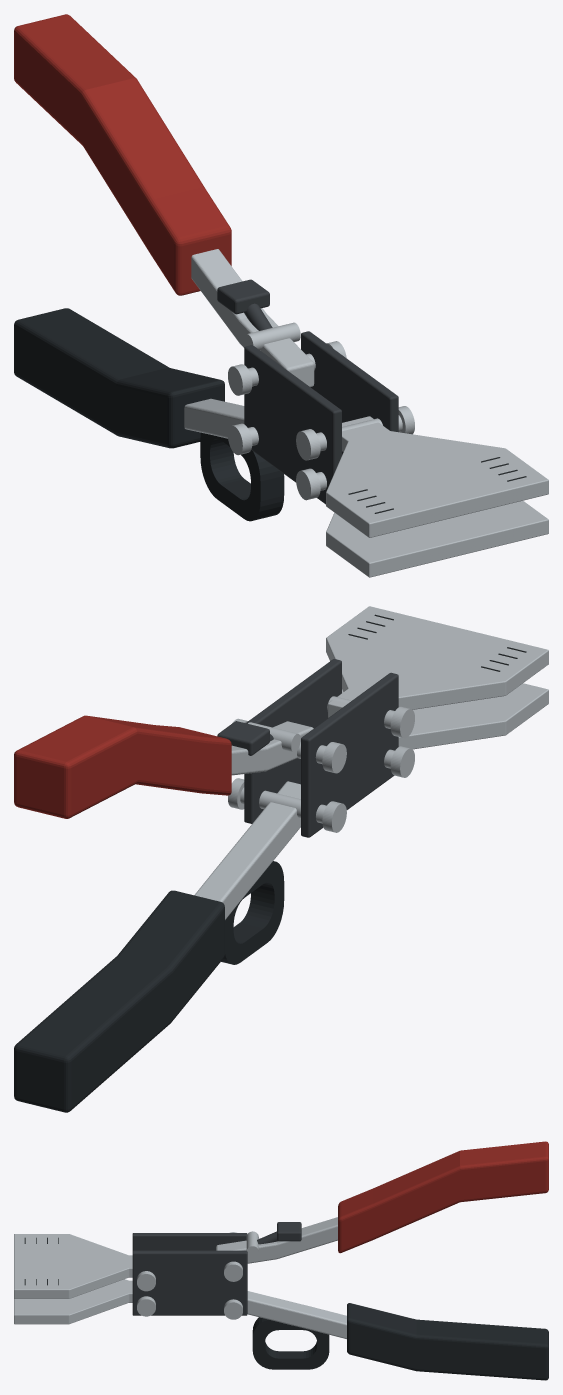
File: full.glb
3 renders of one model, top to bottom at view 1: azimuth 30°, elevation 25°; view 2: azimuth 150°, elevation 25°; view 3: azimuth 270°, elevation 25°, orthographic. The views are drawn at different scales.
Visible parts, largest first — view 1: Ergonomic raised upper grip, Upper broad jaw and shank, Ergonomic lower grip, Lower broad jaw and shank, Parallel link cheek -0.012, Lower finger stop oval opening, Parallel link cheek 0.012, Upper curved metal handle, Lower metal handle, Latch thumb tab, Upper neck latch pivot; view 2: Ergonomic lower grip, Ergonomic raised upper grip, Upper broad jaw and shank, Parallel link cheek -0.012, Lower broad jaw and shank, Lower metal handle, Parallel link cheek 0.012, Lower finger stop oval opening, Upper curved metal handle, Latch thumb tab, Compound transverse pivot 2, Rivet retaining disc (2, -0.02) (+3 smaller); view 3: Ergonomic raised upper grip, Ergonomic lower grip, Parallel link cheek 0.012, Upper broad jaw and shank, Lower broad jaw and shank, Lower metal handle, Lower finger stop oval opening, Upper curved metal handle, Parallel link cheek -0.012, Latch thumb tab, Rivet retaining disc (0, 0.02), Rivet retaining disc (2, 0.02) (+2 smaller).
Boxes of the visible parts, bbox=[...] form: Ergonomic raised upper grip: bbox=[14, 14, 231, 295]; Upper broad jaw and shank: bbox=[326, 416, 548, 537]; Ergonomic lower grip: bbox=[14, 308, 224, 448]; Lower broad jaw and shank: bbox=[326, 500, 548, 577]; Parallel link cheek -0.012: bbox=[244, 345, 341, 504]; Lower finger stop oval opening: bbox=[200, 432, 284, 521]; Parallel link cheek 0.012: bbox=[301, 331, 398, 454]; Upper curved metal handle: bbox=[191, 249, 314, 387]; Lower metal handle: bbox=[184, 398, 244, 438]; Latch thumb tab: bbox=[217, 279, 269, 314]; Upper neck latch pivot: bbox=[244, 322, 300, 350]; Ergonomic lower grip: bbox=[14, 890, 224, 1112]; Ergonomic raised upper grip: bbox=[14, 715, 231, 818]; Upper broad jaw and shank: bbox=[326, 606, 548, 717]; Parallel link cheek -0.012: bbox=[301, 672, 398, 837]; Lower broad jaw and shank: bbox=[342, 683, 548, 749]; Lower metal handle: bbox=[194, 781, 300, 919]; Parallel link cheek 0.012: bbox=[244, 659, 341, 823]; Lower finger stop oval opening: bbox=[221, 861, 284, 964]; Upper curved metal handle: bbox=[231, 721, 313, 775]; Latch thumb tab: bbox=[217, 721, 269, 755]; Compound transverse pivot 2: bbox=[240, 787, 326, 823]; Rivet retaining disc (2, -0.02): bbox=[322, 801, 346, 832]; Ergonomic raised upper grip: bbox=[338, 1141, 548, 1253]; Ergonomic lower grip: bbox=[347, 1303, 548, 1380]; Parallel link cheek 0.012: bbox=[132, 1250, 247, 1315]; Upper broad jaw and shank: bbox=[14, 1234, 132, 1298]; Lower broad jaw and shank: bbox=[14, 1279, 132, 1324]; Lower metal handle: bbox=[247, 1291, 346, 1339]; Lower finger stop oval opening: bbox=[252, 1317, 329, 1369]; Upper curved metal handle: bbox=[216, 1217, 337, 1263]; Parallel link cheek -0.012: bbox=[132, 1233, 247, 1250]; Latch thumb tab: bbox=[277, 1222, 301, 1241]; Rivet retaining disc (0, 0.02): bbox=[137, 1296, 155, 1316]; Rivet retaining disc (2, 0.02): bbox=[224, 1299, 242, 1319].
Size of the model in its own units: 0.0762 by 0.1416 by 0.307.
